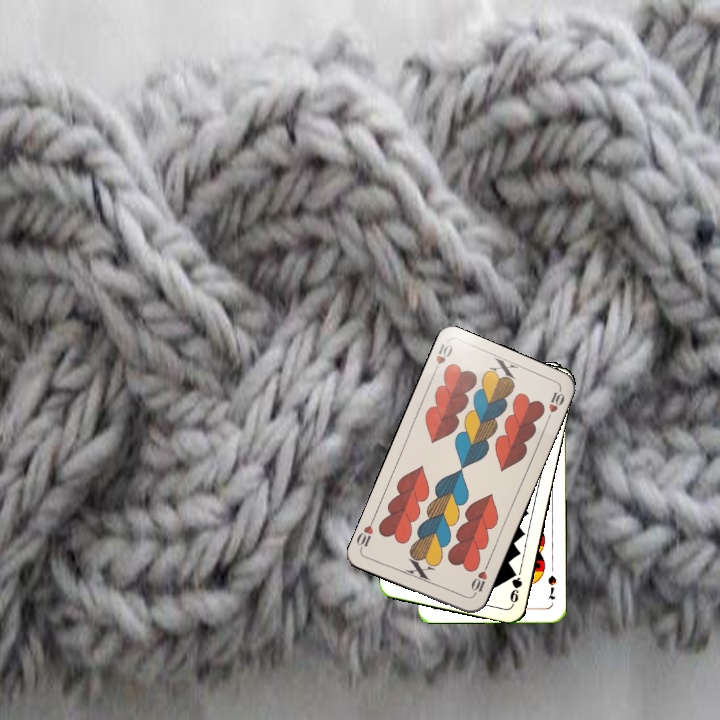G9: (506, 566, 525, 607)
H10: (429, 339, 455, 377), (467, 560, 491, 599)
S7: (544, 571, 559, 602)
